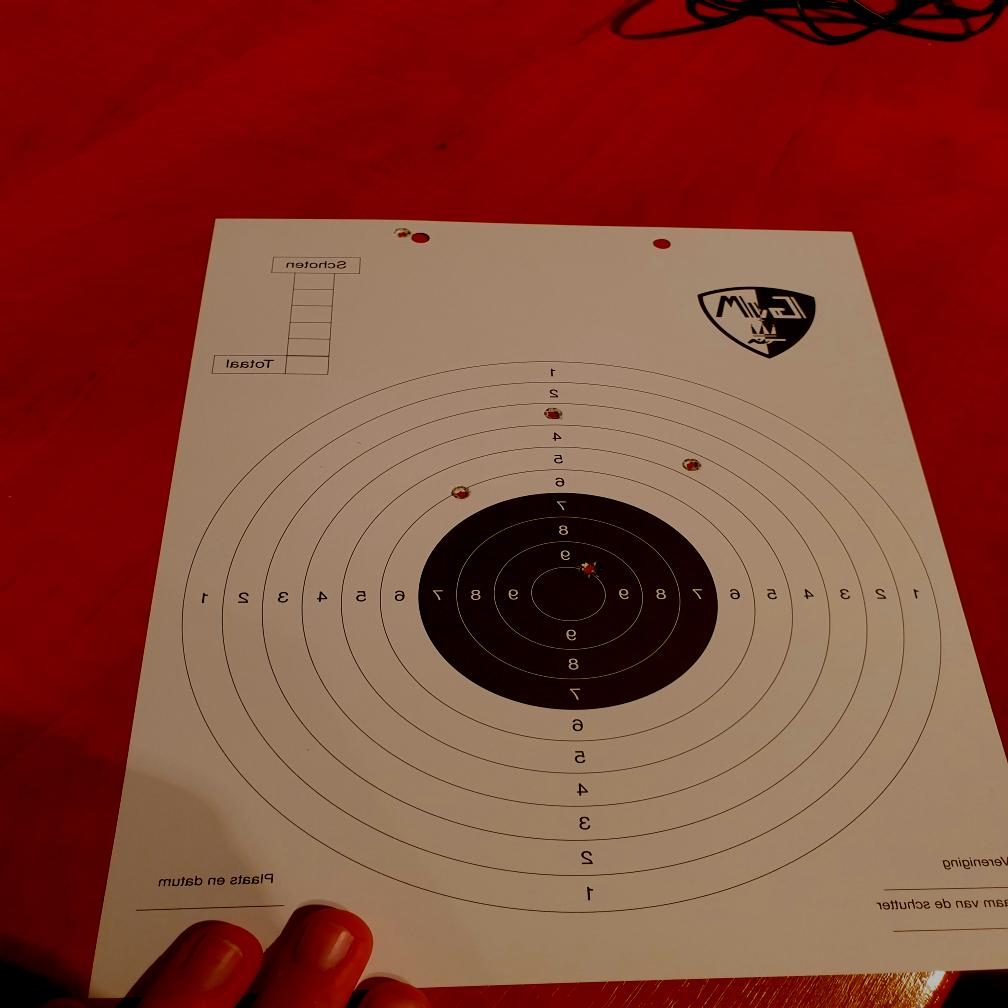0: (390, 226, 415, 240)
10: (578, 561, 605, 578)
3: (543, 406, 564, 420)
4: (680, 457, 703, 473)
6: (450, 483, 472, 502)
Target: (178, 357, 946, 918)
black_contour: (418, 492, 718, 712)
